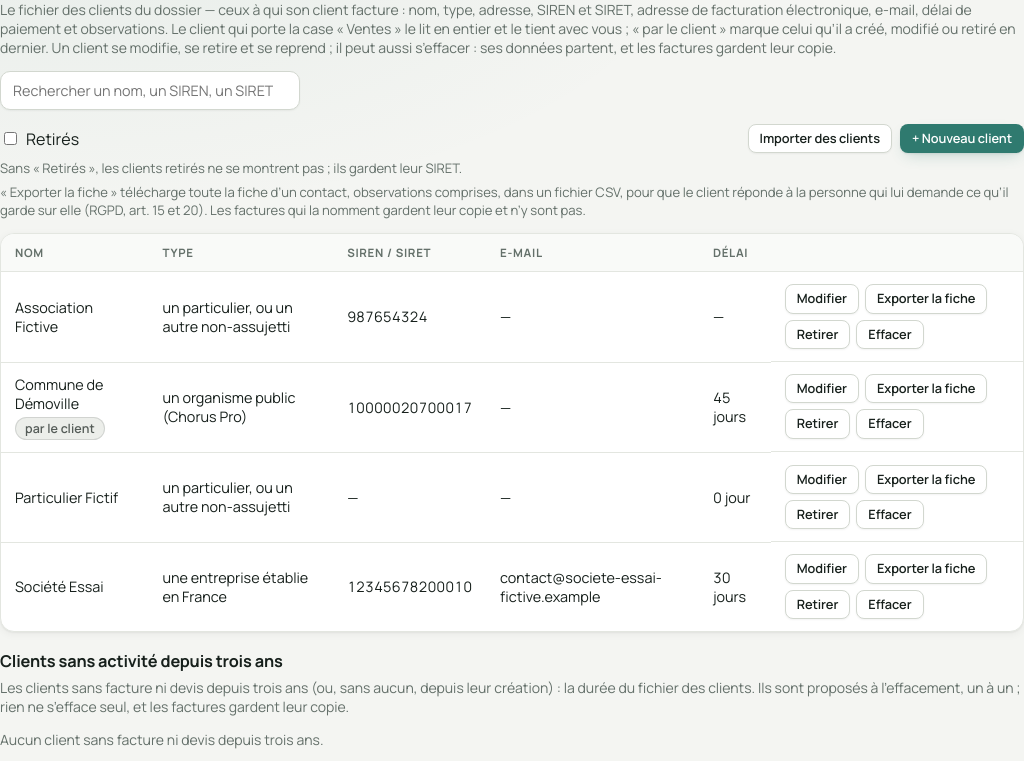
Scenario: Clients — la liste › une recherche ne trouve jamais un effacé, même par ce qu’il en reste
Expected: the table named "Clients" is shown, [1,234,1023,631]
Click the checkbox labelled "Retirés" at (10, 139), box [4,132,17,145]
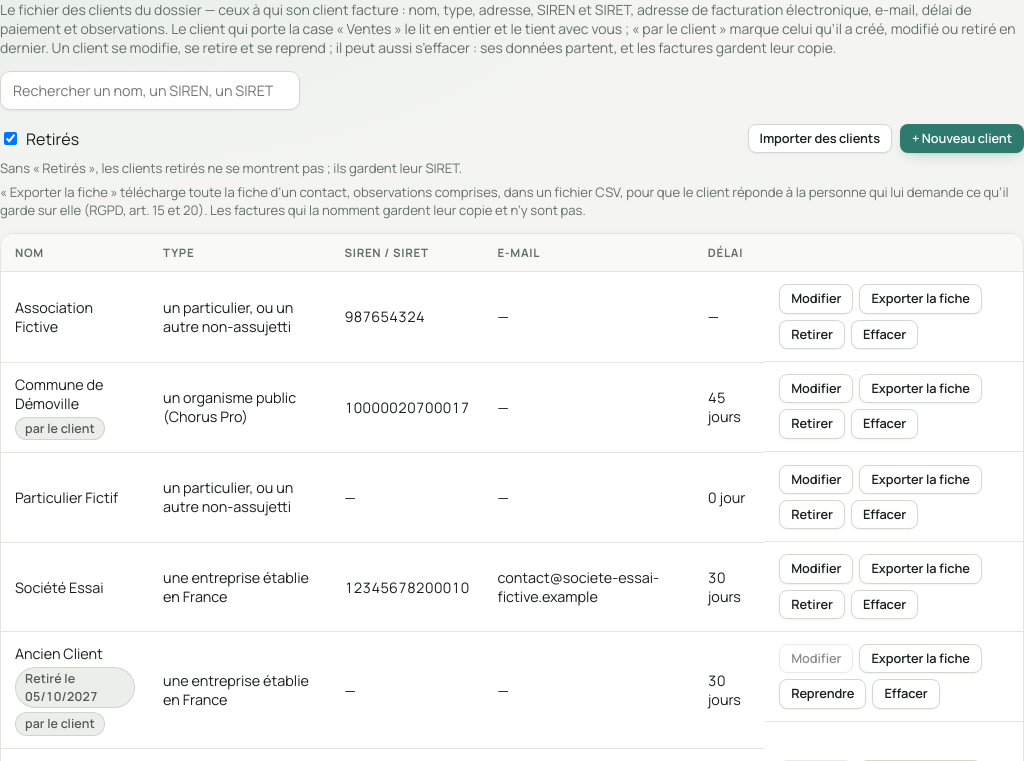
Type "effacé" into the search field with placeholder "Rechercher un nom, un SIREN, un SIRET…" at (150, 90), box [0,71,300,110]
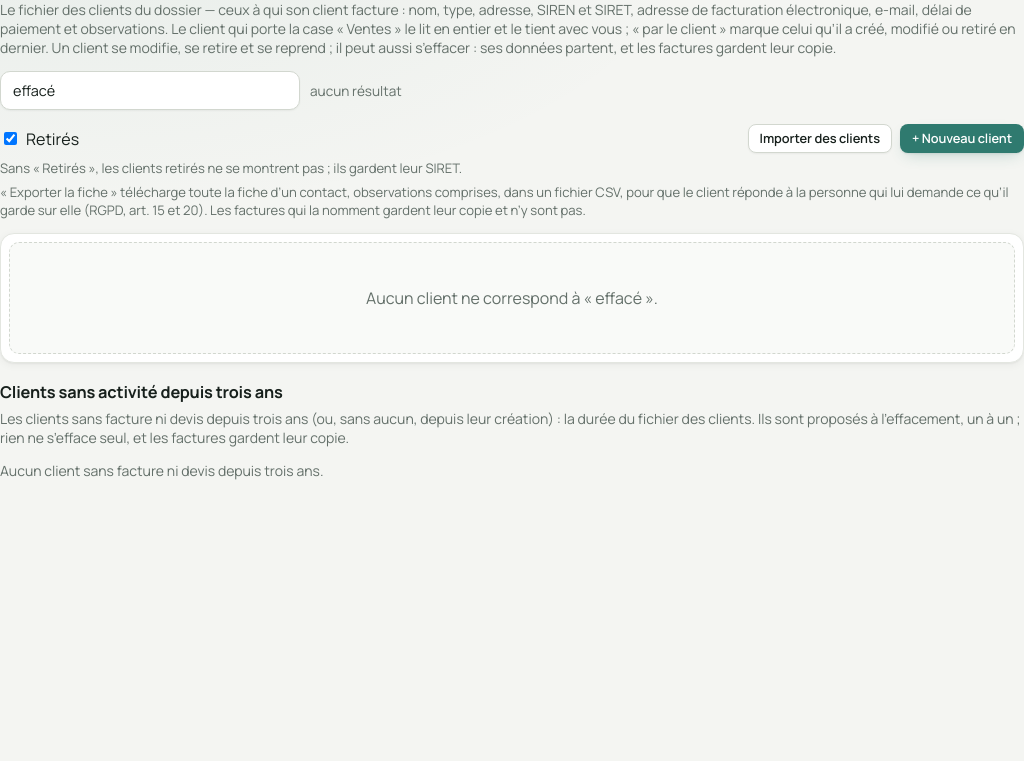
Now the text "Aucun client ne correspond à « effacé »." is shown, box [9,242,1015,354]
